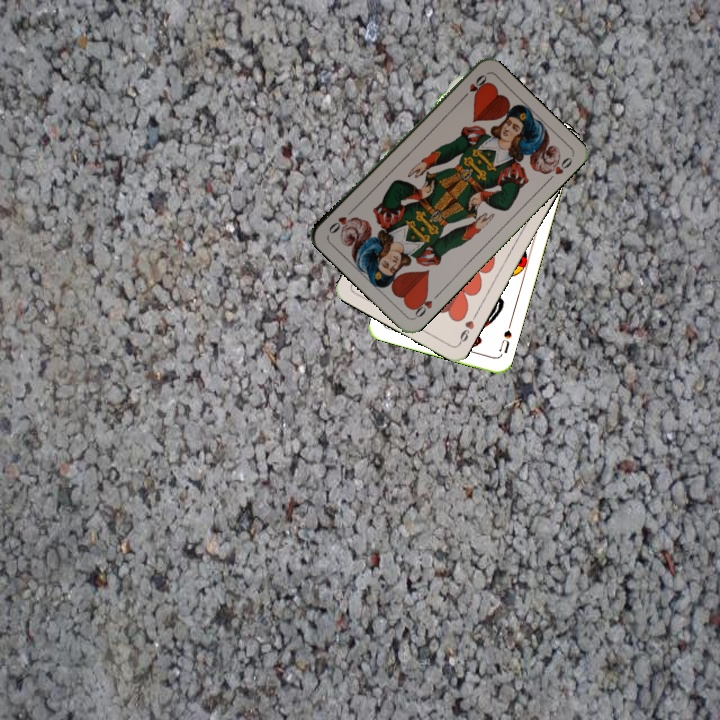H9: (454, 310, 479, 347)
HO: (408, 289, 443, 321), (457, 70, 490, 103)
SU: (495, 319, 514, 356)
